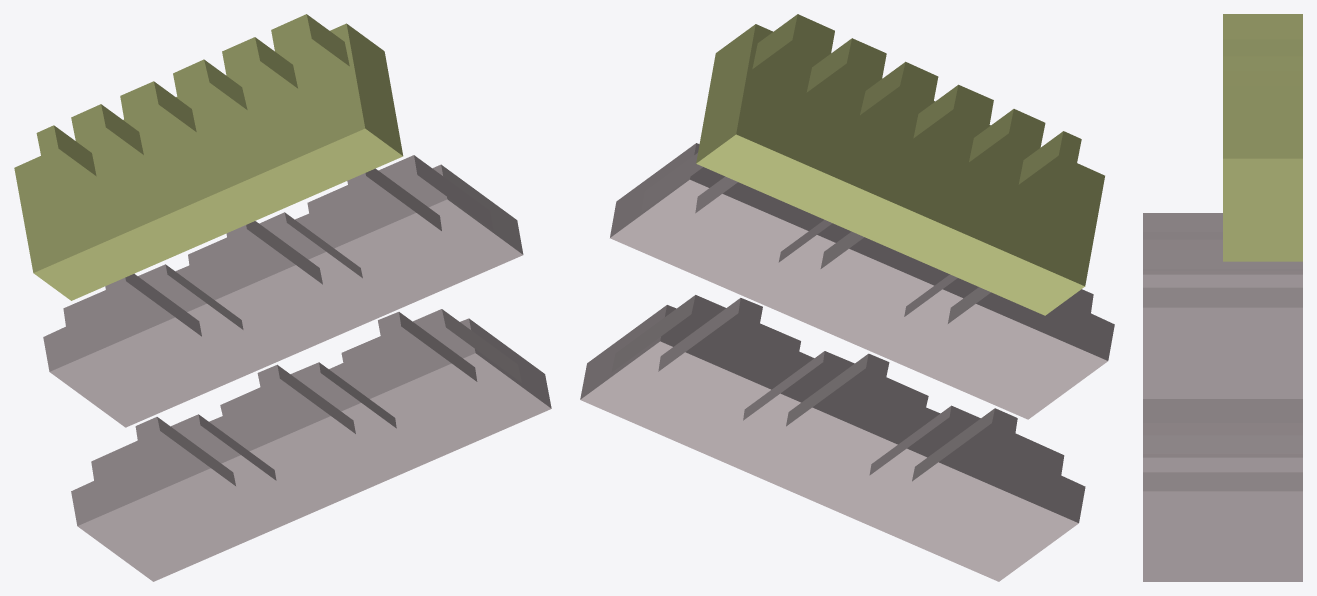
3 renders of one model, left to right at view 1: azimuth 30°, elevation 25°; view 2: azimuth 150°, elevation 25°; view 3: azimuth 270°, elevation 25°, orthographic. The views are drawn at different scales.
Parts seen in each view (by area): view 1: 0_0_1_3_3_2_2_2; view 2: 0_0_1_3_3_2_2_2; view 3: 0_0_1_3_3_2_2_2.
Part boxes in pixels (<box>): 0_0_1_3_3_2_2_2: <box>14,14,551,581</box>; 0_0_1_3_3_2_2_2: <box>580,14,1114,581</box>; 0_0_1_3_3_2_2_2: <box>1143,14,1302,581</box>.
Bounding box in the file's own units: 62.95 × 59.5 × 18.
